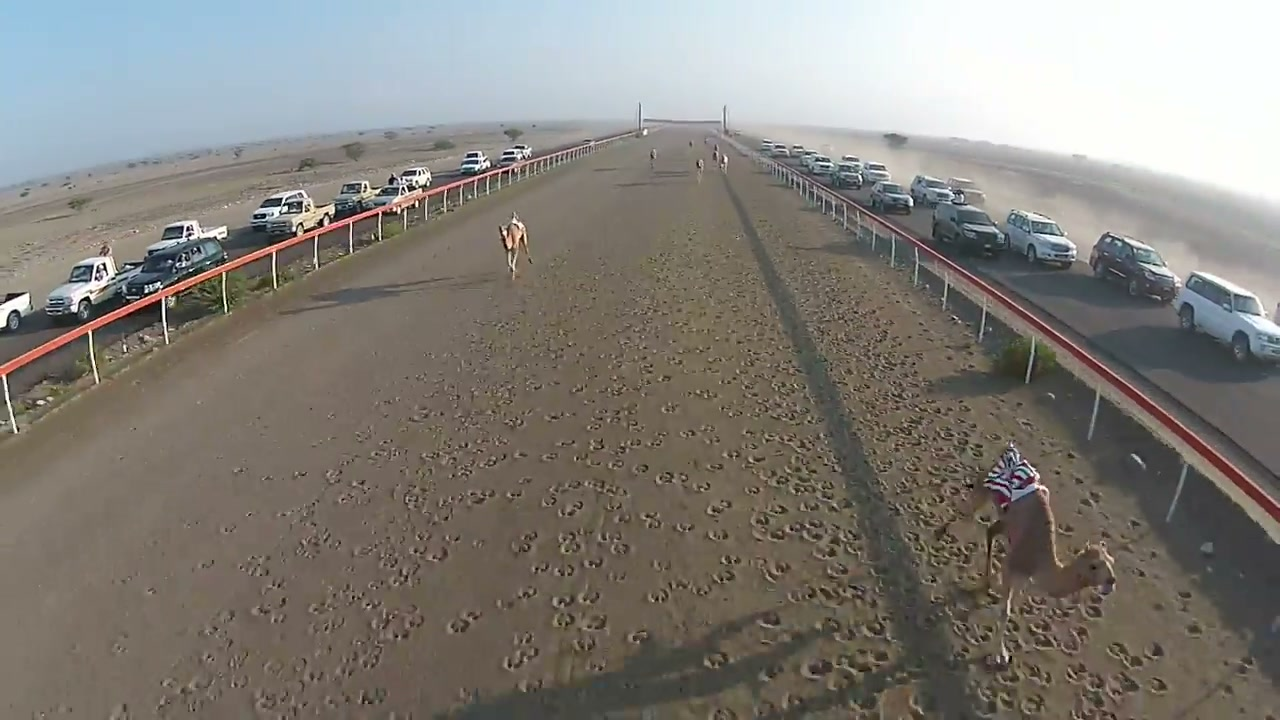animal_footprint: (120, 167, 1274, 717)
